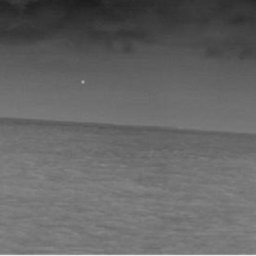Target: (80, 79, 86, 85)
